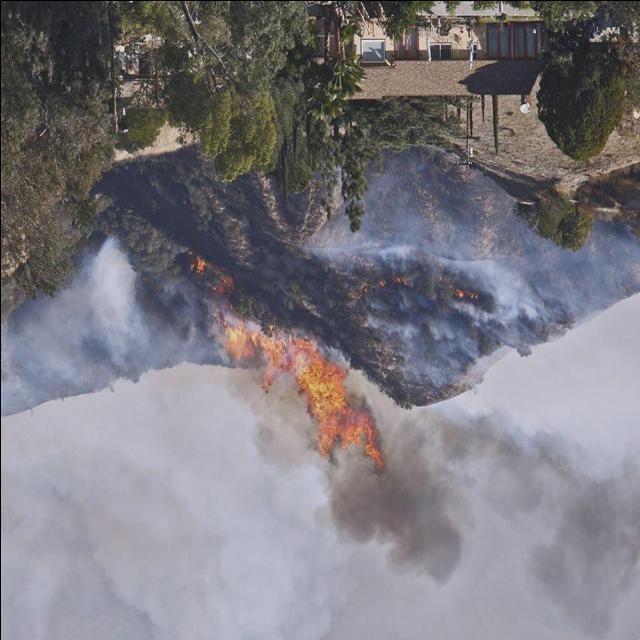Fire: (213, 326, 375, 468), (211, 276, 233, 297), (196, 256, 206, 274), (454, 286, 464, 300)
